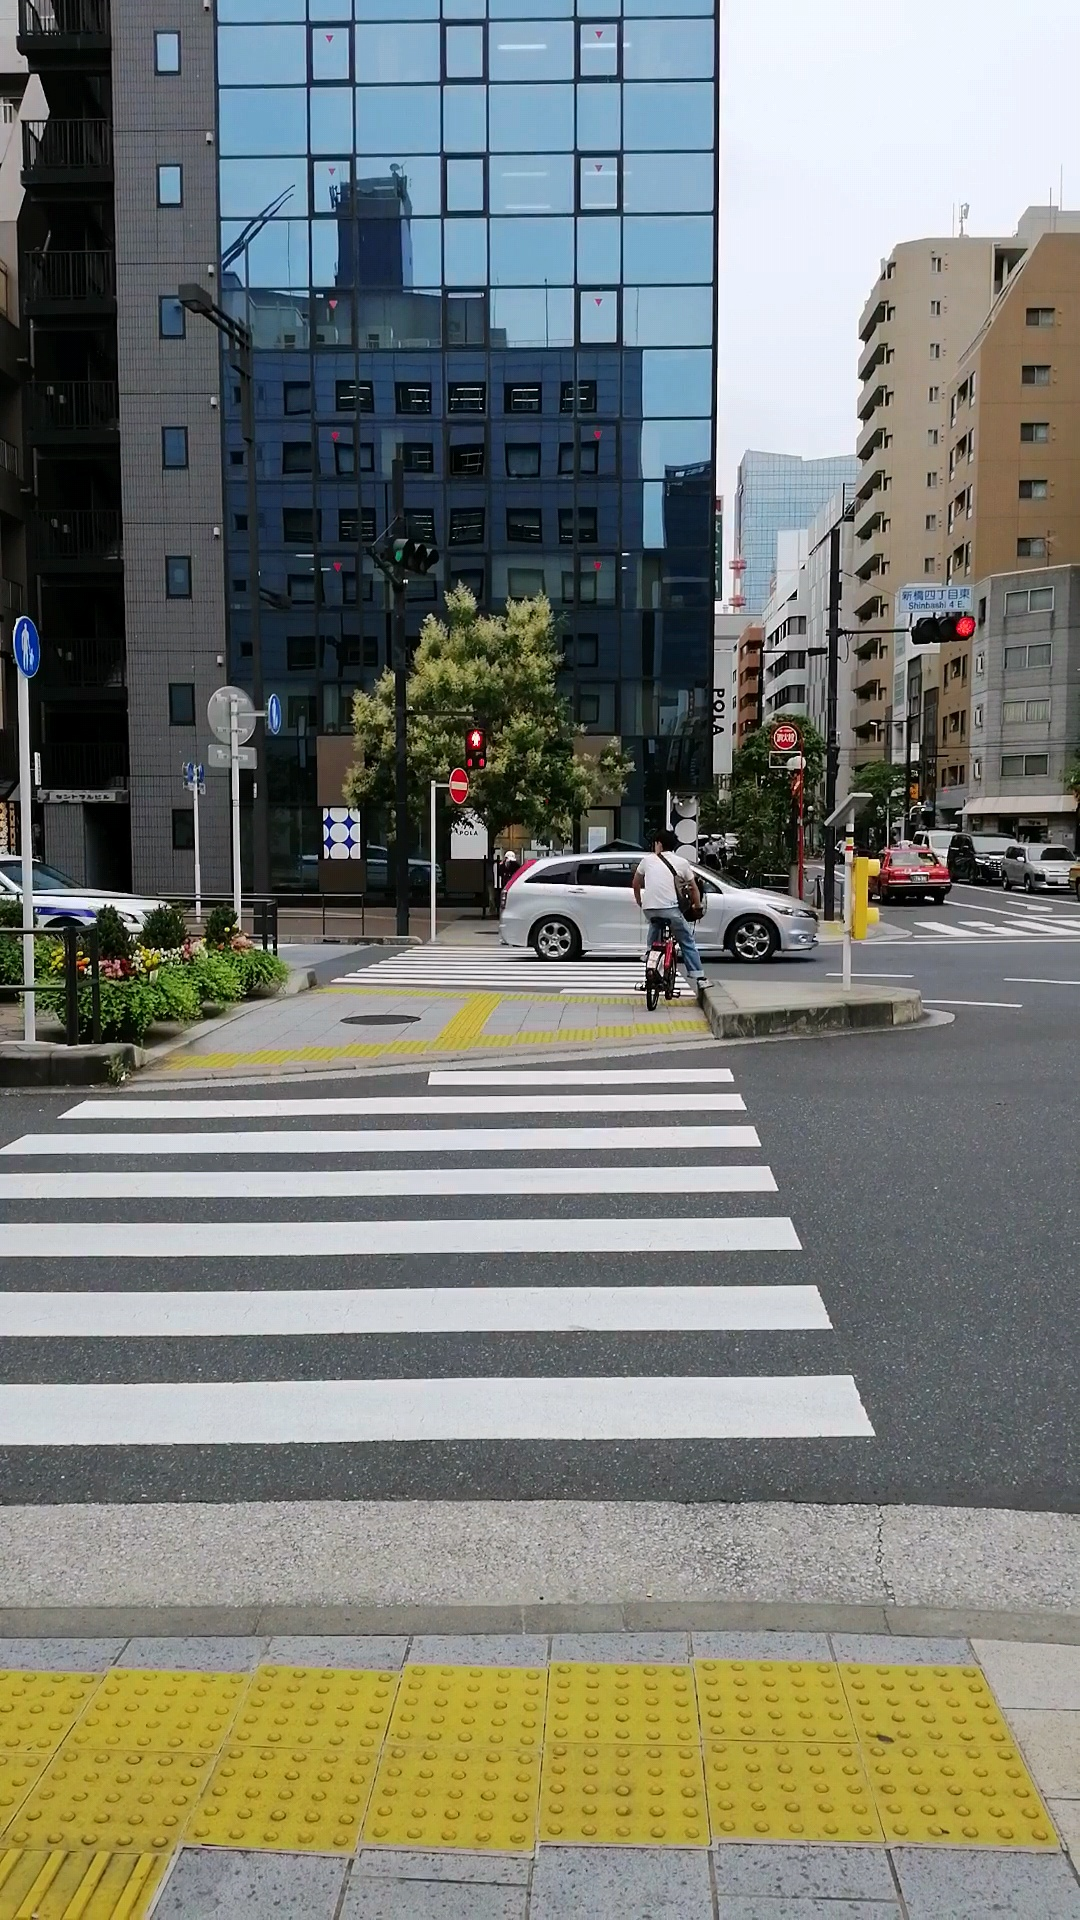red: (465, 727, 487, 769)
